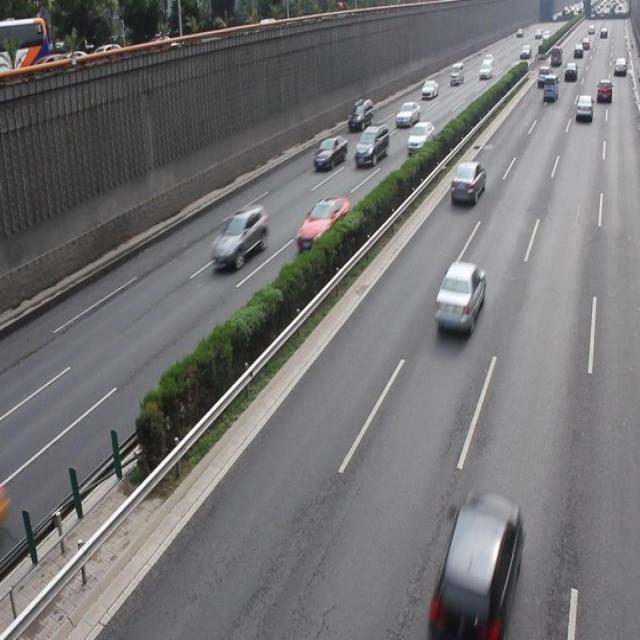car: (433, 492, 522, 634), (209, 203, 267, 268), (433, 260, 484, 333), (295, 196, 349, 253), (448, 160, 484, 204), (353, 123, 388, 166), (313, 136, 347, 171)
